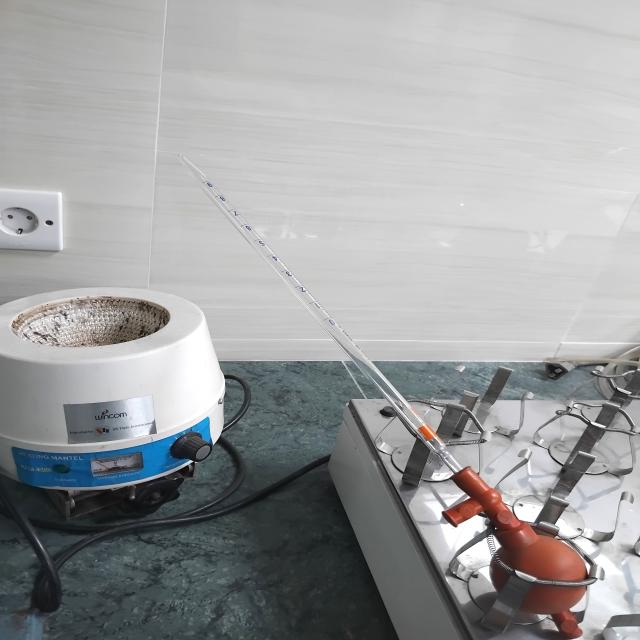Volumetric_Pipet: (162, 122, 590, 625)
